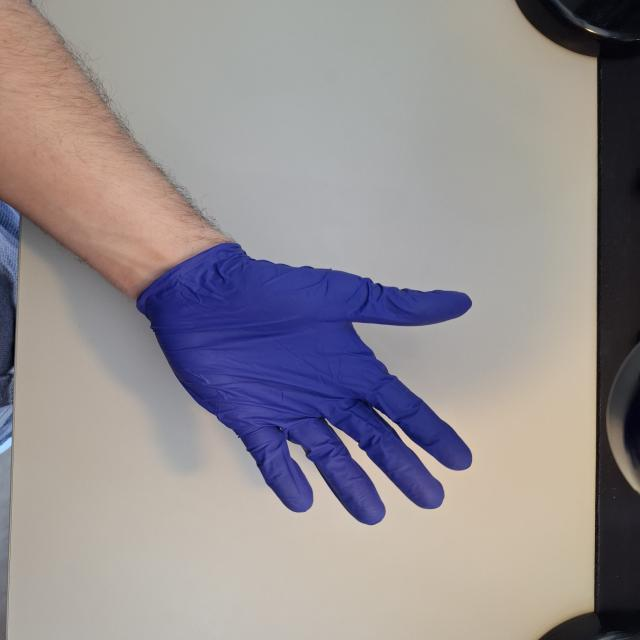glove_on: (134, 245, 478, 529)
